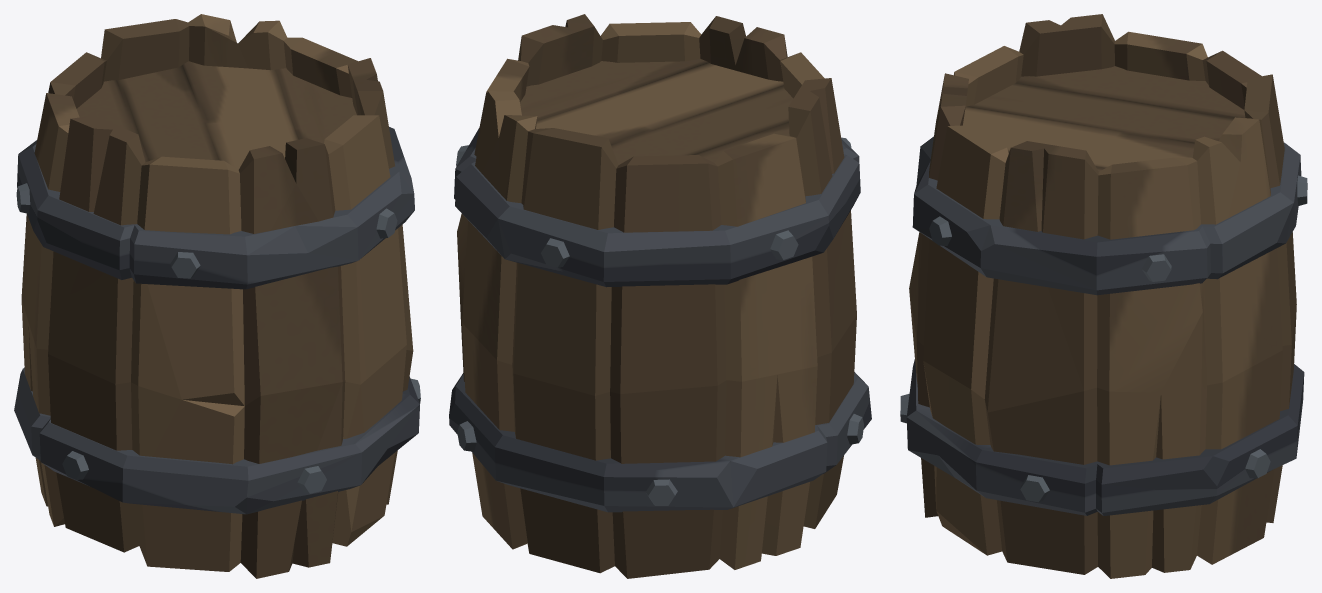
File: SM_Prop_Barrel_01.fbx
3 renders of one model, left to right at view 1: azimuth 30°, elevation 25°; view 2: azimuth 150°, elevation 25°; view 3: azimuth 270°, elevation 25°, orthographic. The views are drawn at different scales.
Parts seen in each view (by area): view 1: SM_Prop_Barrel_01; view 2: SM_Prop_Barrel_01; view 3: SM_Prop_Barrel_01.
Boxes of the visible parts, x1=… form: SM_Prop_Barrel_01: x1=14, y1=14, x2=420, y2=578; SM_Prop_Barrel_01: x1=449, y1=14, x2=871, y2=578; SM_Prop_Barrel_01: x1=900, y1=14, x2=1307, y2=578.
Size of the model in its own units: 90.83 by 104 by 90.86.
